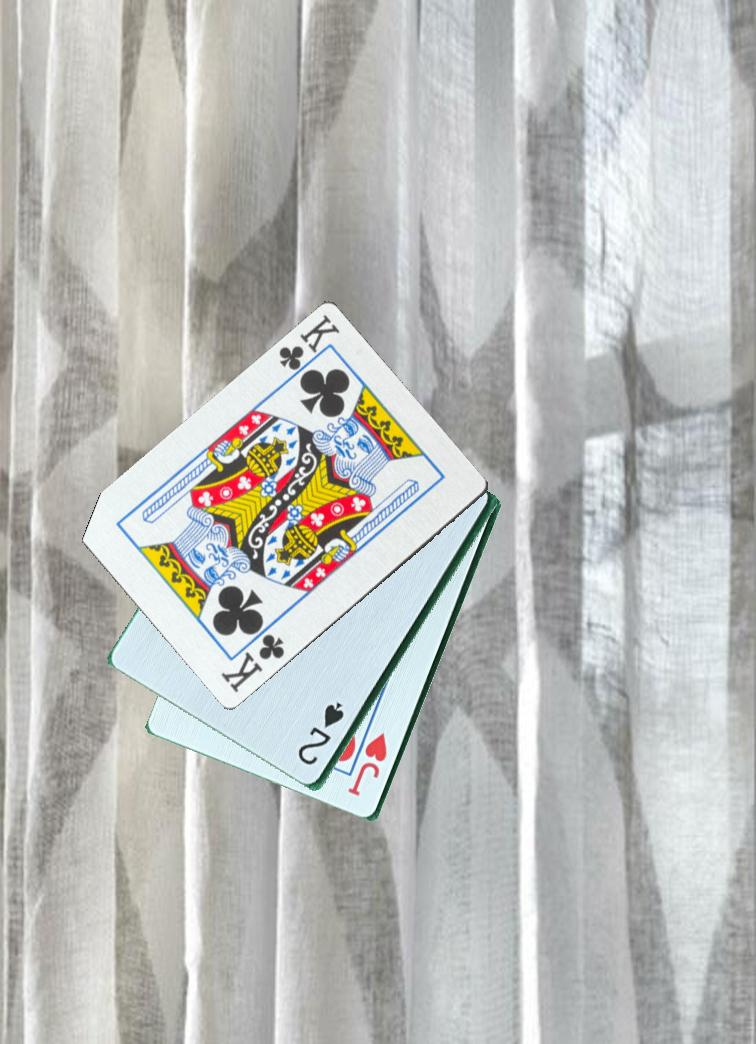2s: (290, 699, 348, 771)
jh: (347, 729, 391, 800)
kc: (217, 630, 288, 701), (273, 311, 343, 375)
